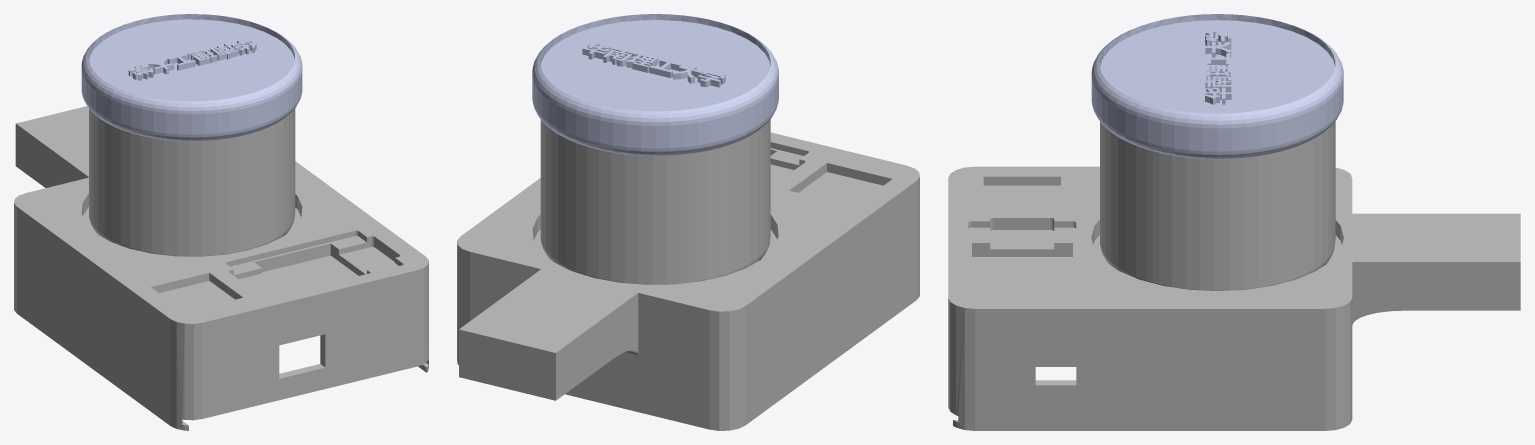
Rendered from tray_box_lid.dae.
3 renders of one model, left to right at view 1: azimuth 30°, elevation 25°; view 2: azimuth 150°, elevation 25°; view 3: azimuth 270°, elevation 25°, orthographic. The views are drawn at different scales.
Visible parts, largest first — view 1: tray_box_lid, box, lid; view 2: tray_box_lid, box, lid; view 3: tray_box_lid, box, lid.
Part boxes in pixels (<box>): tray_box_lid: <box>14,106,428,430</box>; box: <box>89,108,295,256</box>; lid: <box>81,14,302,141</box>; tray_box_lid: <box>457,132,919,430</box>; box: <box>540,119,770,284</box>; lid: <box>532,14,778,156</box>; tray_box_lid: <box>948,166,1520,430</box>; box: <box>1100,121,1335,290</box>; lid: <box>1091,14,1343,159</box>.
Bounding box in the file's own units: 0.1 × 0.17 × 0.097.
